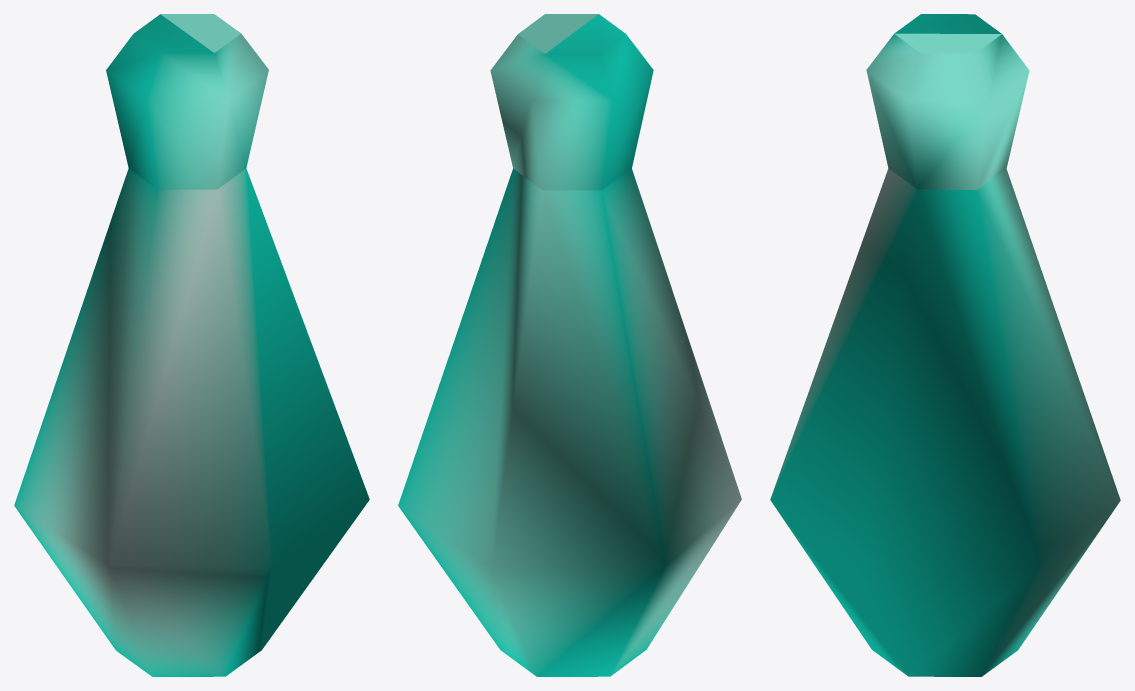
The model's file is fabe.hrc.gltf.
3 views of the same model, side by side, from view 1: azimuth 30°, elevation 25°; view 2: azimuth 150°, elevation 25°; view 3: azimuth 270°, elevation 25° (orthographic).
Visible parts, largest first — view 1: fabeBone0_null; view 2: fabeBone0_null; view 3: fabeBone0_null.
Boxes of the visible parts, box(x1,y1,x2,y2) form: fabeBone0_null: box(14, 14, 369, 676); fabeBone0_null: box(398, 14, 741, 676); fabeBone0_null: box(770, 14, 1120, 676).
Bounding box in the file's own units: 6.23 × 13.48 × 6.94.
